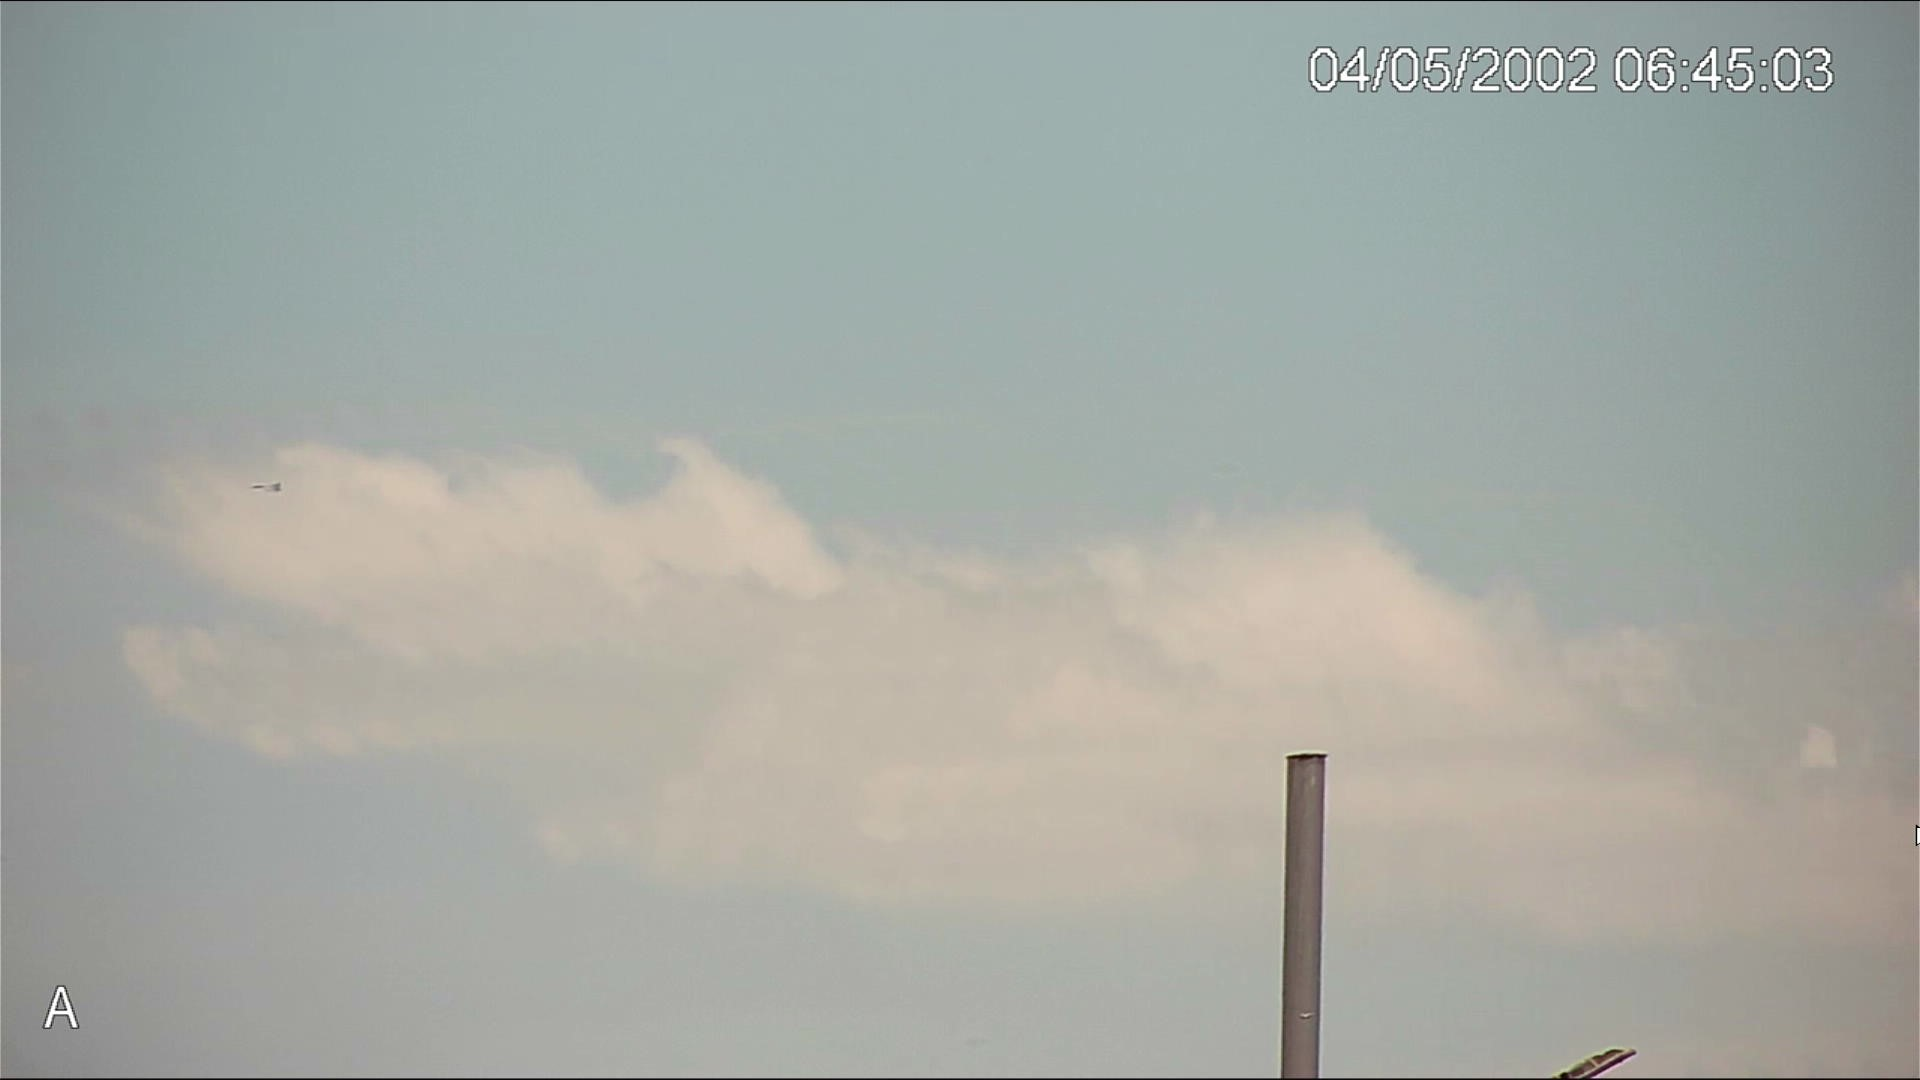SU_30: (249, 479, 284, 491)
